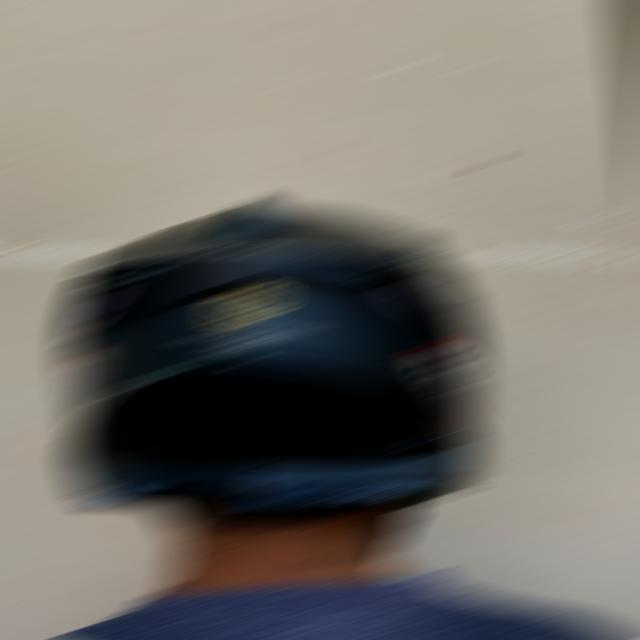With Helmet: (58, 197, 481, 505)
